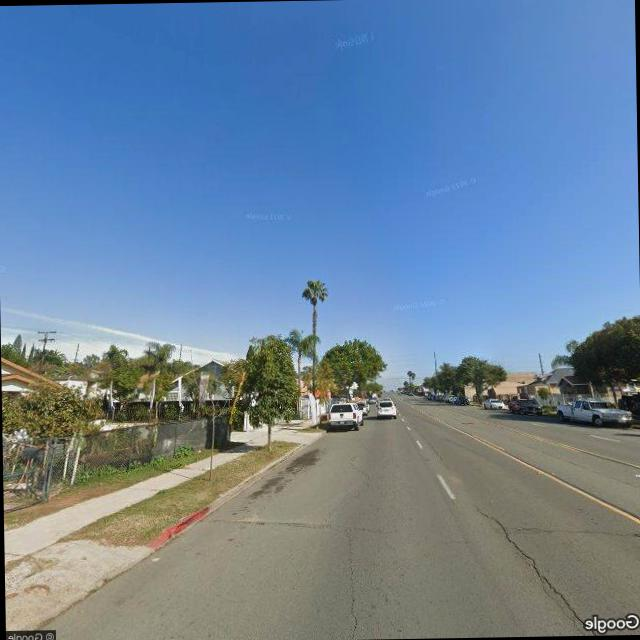crack: (478, 498, 590, 632), (509, 515, 640, 543), (336, 526, 366, 638)
